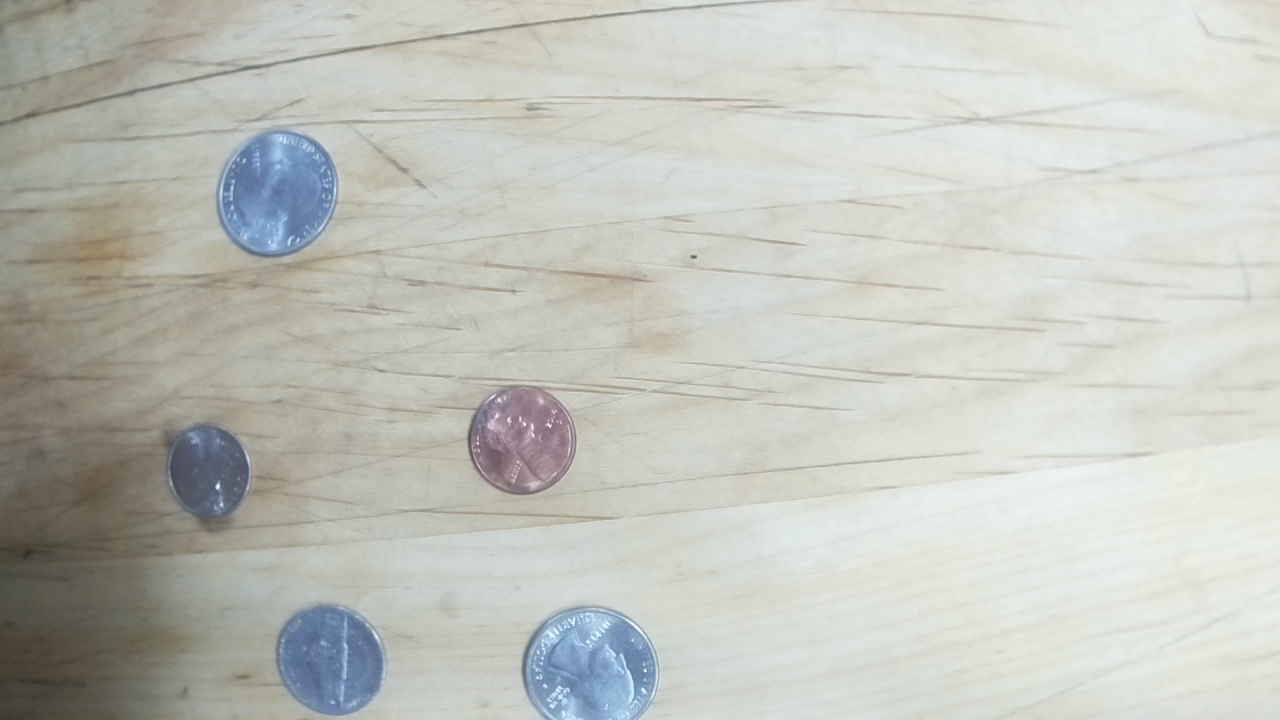dime: (164, 424, 252, 521)
nickel: (275, 601, 386, 718)
penny: (468, 382, 577, 495)
quarter: (213, 129, 340, 258), (522, 605, 661, 720)
